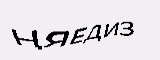В: (66, 23, 91, 56)
М: (117, 21, 132, 46)
П: (105, 22, 119, 51)
С: (92, 21, 110, 54)
Ш: (20, 23, 63, 57)
